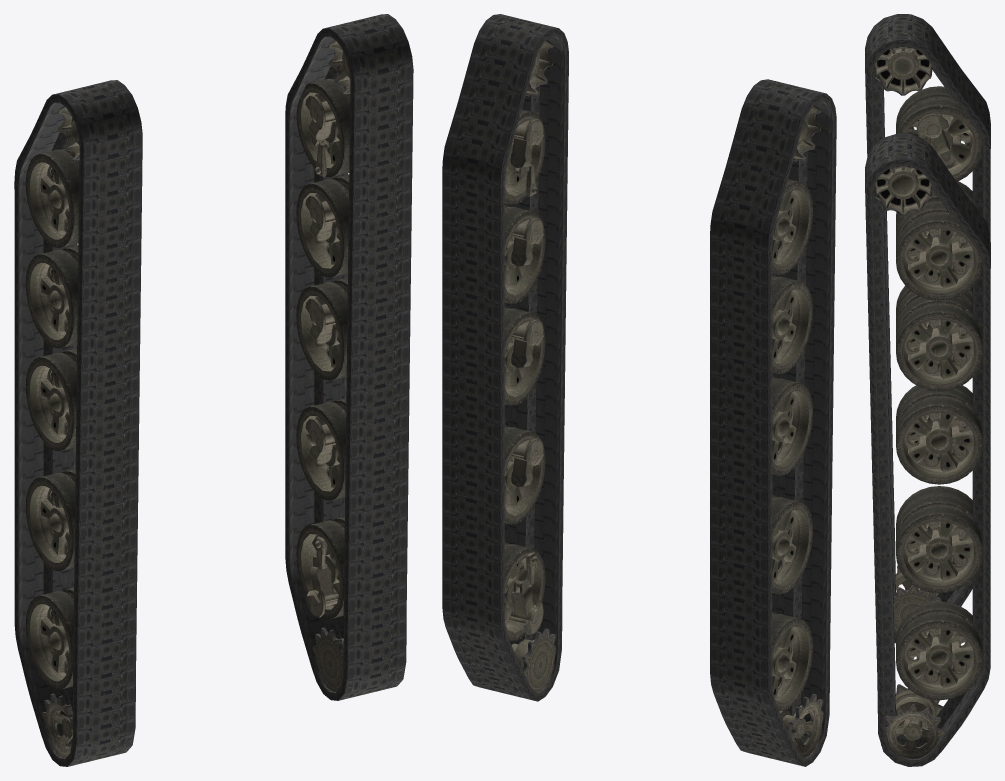
The model's file is Chassis.glb.
3 renders of one model, left to right at view 1: azimuth 30°, elevation 25°; view 2: azimuth 150°, elevation 25°; view 3: azimuth 270°, elevation 25°, orthographic. The views are drawn at different scales.
Parts seen in each view (by area): view 1: set_0_group_0, set_1_group_0, set_3_group_0, set_2_group_0; view 2: set_0_group_0, set_1_group_0, set_3_group_0, set_2_group_0; view 3: set_3_group_0, set_1_group_0, set_2_group_0, set_0_group_0.
Boxes of the visible parts, bbox=[...] form: set_0_group_0: bbox=[14, 80, 142, 766]; set_1_group_0: bbox=[285, 14, 413, 700]; set_3_group_0: bbox=[296, 40, 402, 697]; set_2_group_0: bbox=[25, 106, 131, 763]; set_0_group_0: bbox=[710, 79, 836, 766]; set_1_group_0: bbox=[442, 14, 568, 701]; set_3_group_0: bbox=[475, 40, 555, 698]; set_2_group_0: bbox=[743, 105, 823, 764]; set_3_group_0: bbox=[874, 166, 982, 758]; set_1_group_0: bbox=[865, 133, 990, 766]; set_2_group_0: bbox=[874, 47, 982, 633]; set_0_group_0: bbox=[865, 14, 990, 643].
Bounding box in the file's own units: 3.2 × 6.23 × 1.17.
Materials: 4 (4 with a texture image).
